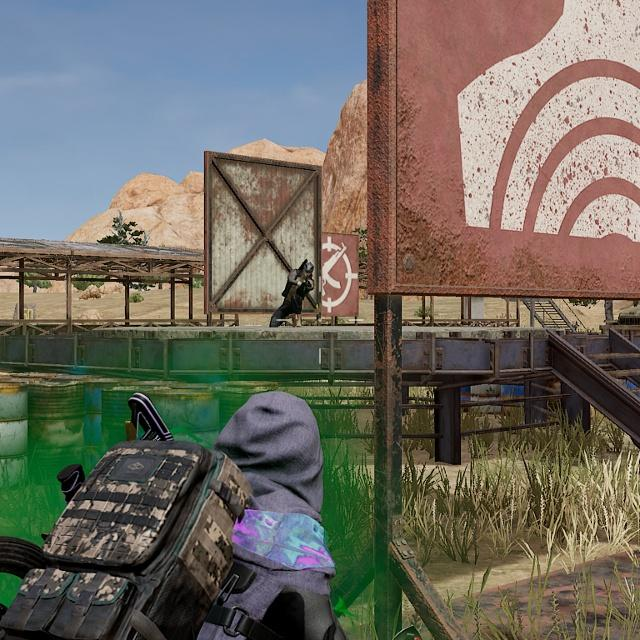head: (294, 254, 320, 282)
people: (265, 252, 329, 327)
